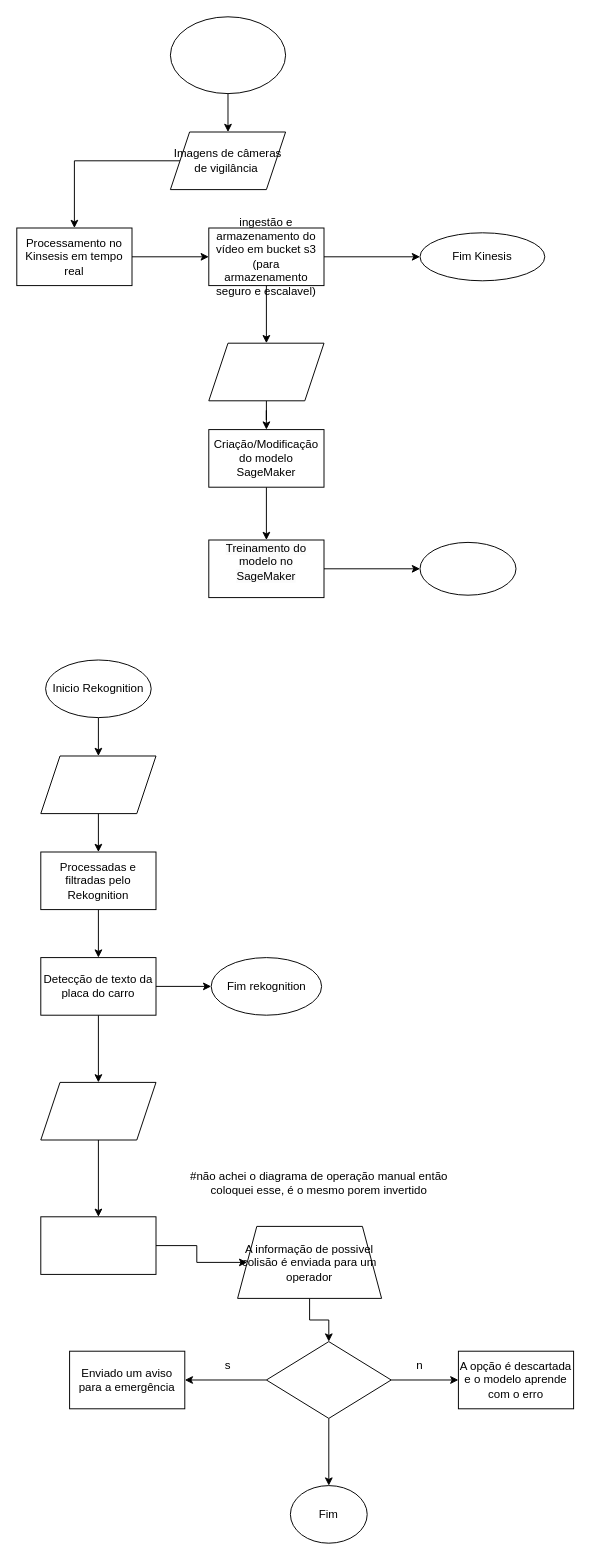
Image size: 590x1560. Some labels were removed from this diagram. Here are the shapes that lost their labels. From the top down, the centre of each, then its label:
At (x=227, y=55): "Inicio".
At (x=266, y=371): "Imagens vindas do bucket".
At (x=467, y=568): "Fim SageMaker".
At (x=98, y=784): "Dados do Bucket".
At (x=98, y=1110): "Recebe os dados do rekognition".
At (x=98, y=1245): "Processamento de dados no Kinesis".
At (x=328, y=1379): "Informar emergência".
